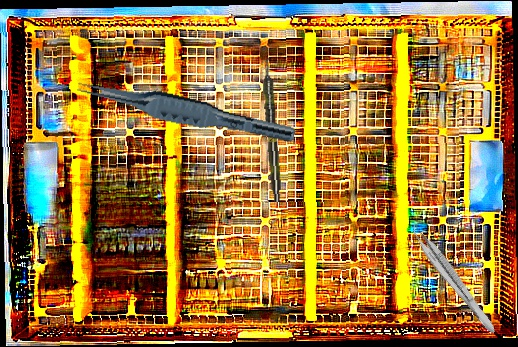Handpiece: (260, 57, 284, 203)
Tissue Forceps: (74, 75, 298, 145), (403, 218, 504, 336)
